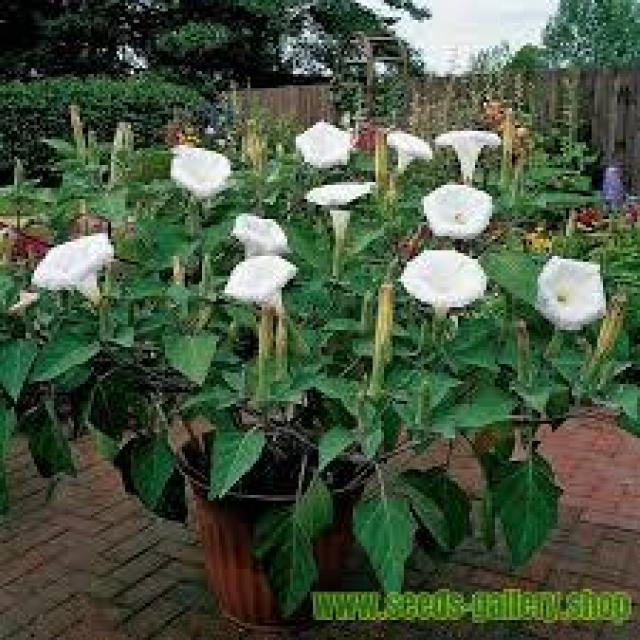organic waste: (22, 226, 134, 303), (396, 238, 490, 328), (204, 243, 308, 314), (429, 115, 504, 198), (307, 175, 376, 263), (535, 246, 606, 329), (164, 120, 229, 197), (421, 178, 501, 237), (283, 108, 357, 168), (382, 120, 433, 194), (229, 208, 300, 258)
